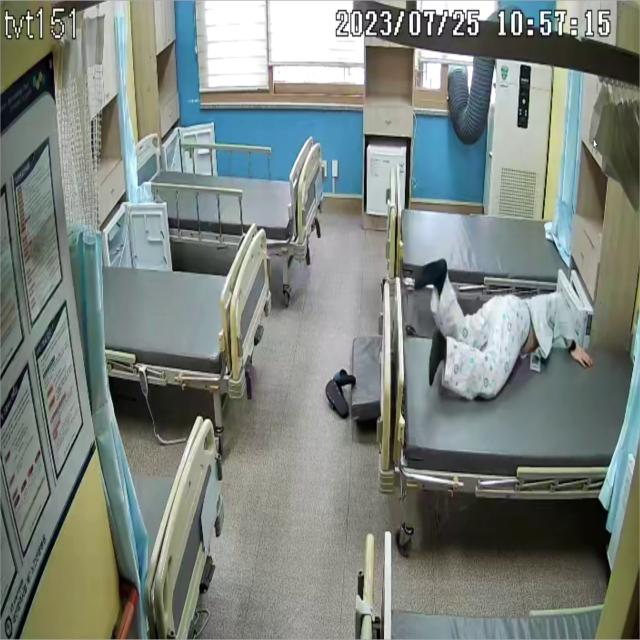bed: (377, 275, 629, 498), (387, 154, 573, 310), (107, 227, 270, 393), (152, 142, 320, 257)
danger: (410, 261, 592, 409)
patient: (411, 261, 591, 406)
